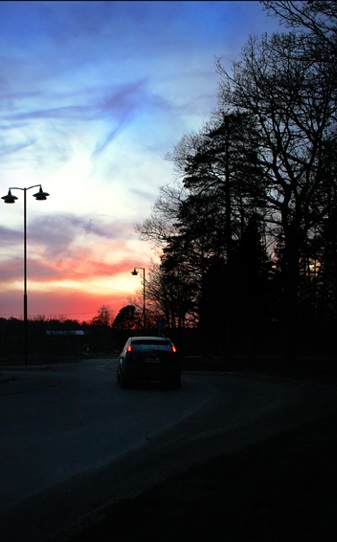car: (112, 333, 188, 395)
